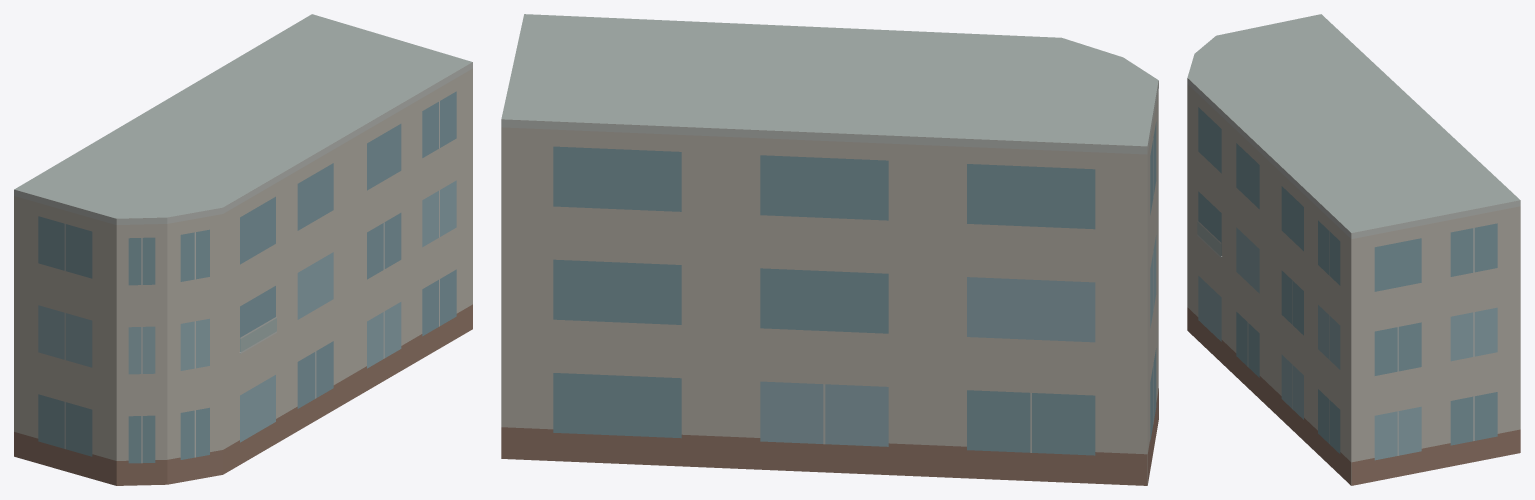
The model's file is survey-upis-32689677.glb.
The picture shows the model from 3 angles, left to right: view 1: azimuth 30°, elevation 25°; view 2: azimuth 150°, elevation 25°; view 3: azimuth 270°, elevation 25°; orthographic projection. The views are drawn at different scales.
Parts seen in each view (by area): view 1: survey-upis-32689677.tmp; view 2: survey-upis-32689677.tmp; view 3: survey-upis-32689677.tmp.
Boxes of the visible parts, x1,y1,x2,y2 form: survey-upis-32689677.tmp: [14, 14, 472, 485]; survey-upis-32689677.tmp: [501, 14, 1158, 485]; survey-upis-32689677.tmp: [1187, 14, 1520, 485].
Bounding box in the file's own units: 18.98 × 10.2 × 12.2.
